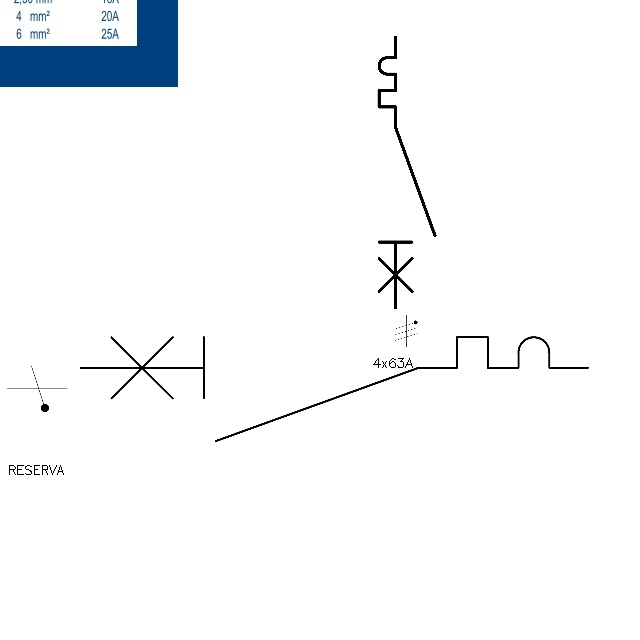interruptor_termomagnetico: (67, 324, 600, 454), (372, 30, 441, 315)
